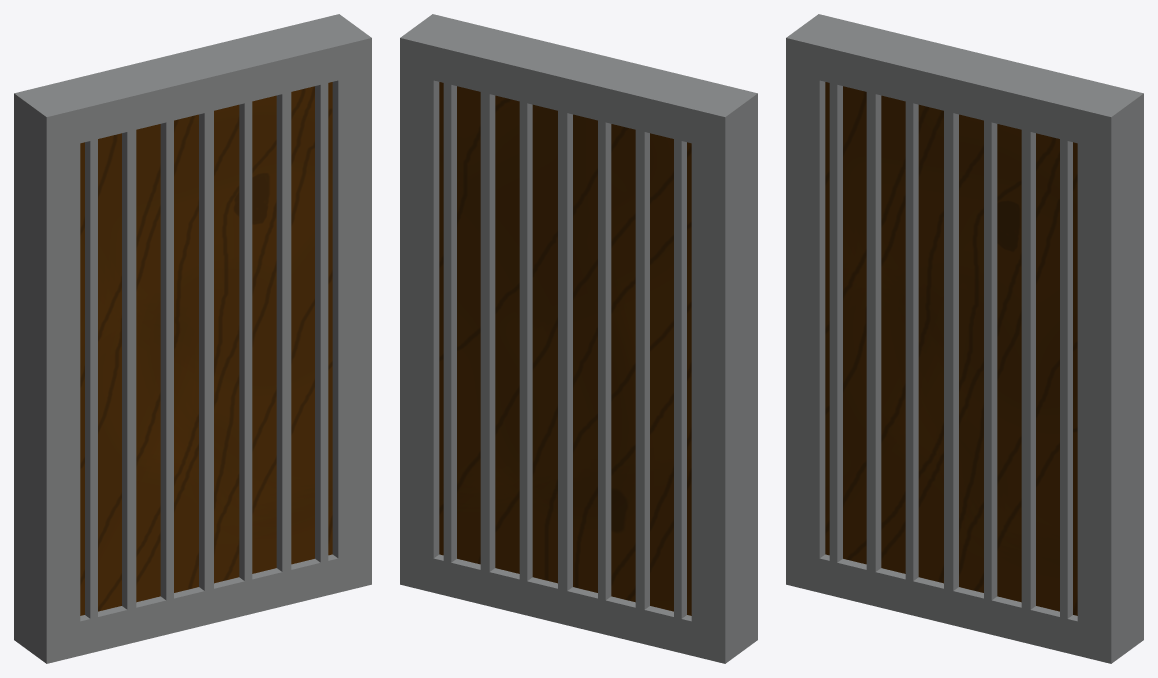
The model's file is Door.fbx.
The picture shows the model from 3 angles, left to right: view 1: azimuth 30°, elevation 25°; view 2: azimuth 150°, elevation 25°; view 3: azimuth 330°, elevation 25°; orthographic projection.
Visible parts, largest first — view 1: Cube; view 2: Cube; view 3: Cube.
Boxes of the visible parts, x1,y1,x2,y2 form: Cube: (14, 14, 371, 663); Cube: (400, 14, 757, 663); Cube: (786, 14, 1143, 663).
Bounding box in the file's own units: 358 × 575 × 62.28.
